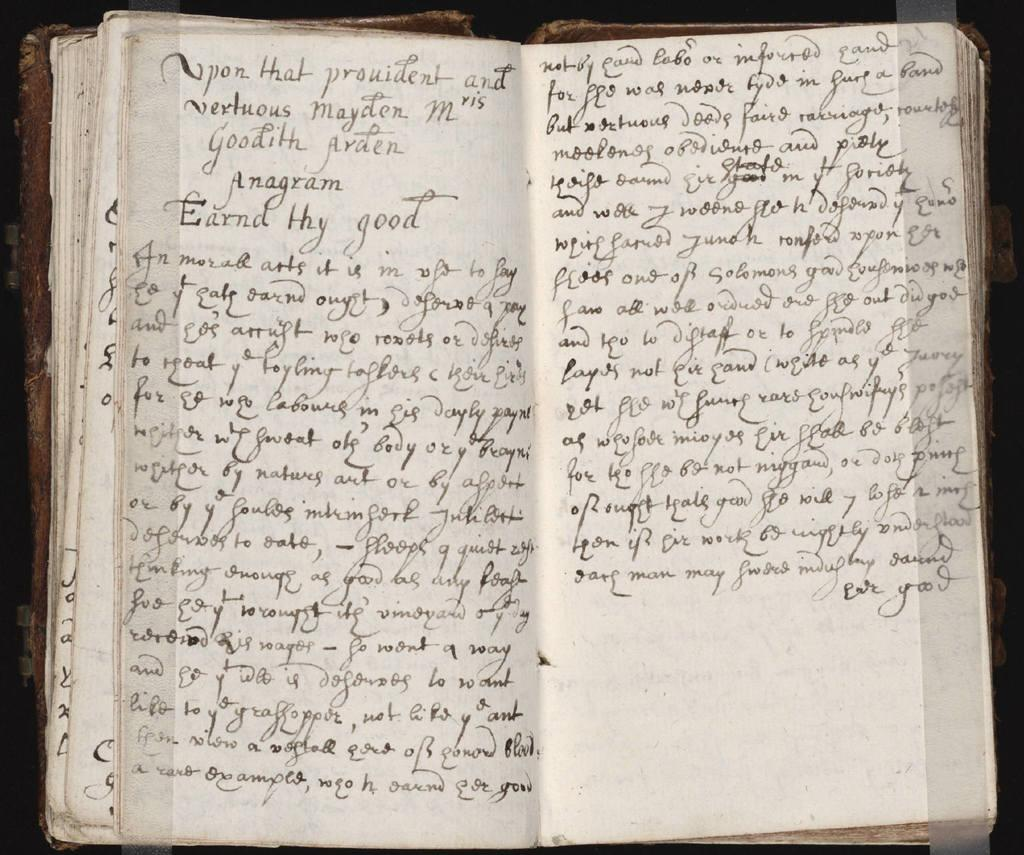book: (32, 4, 1017, 854)
